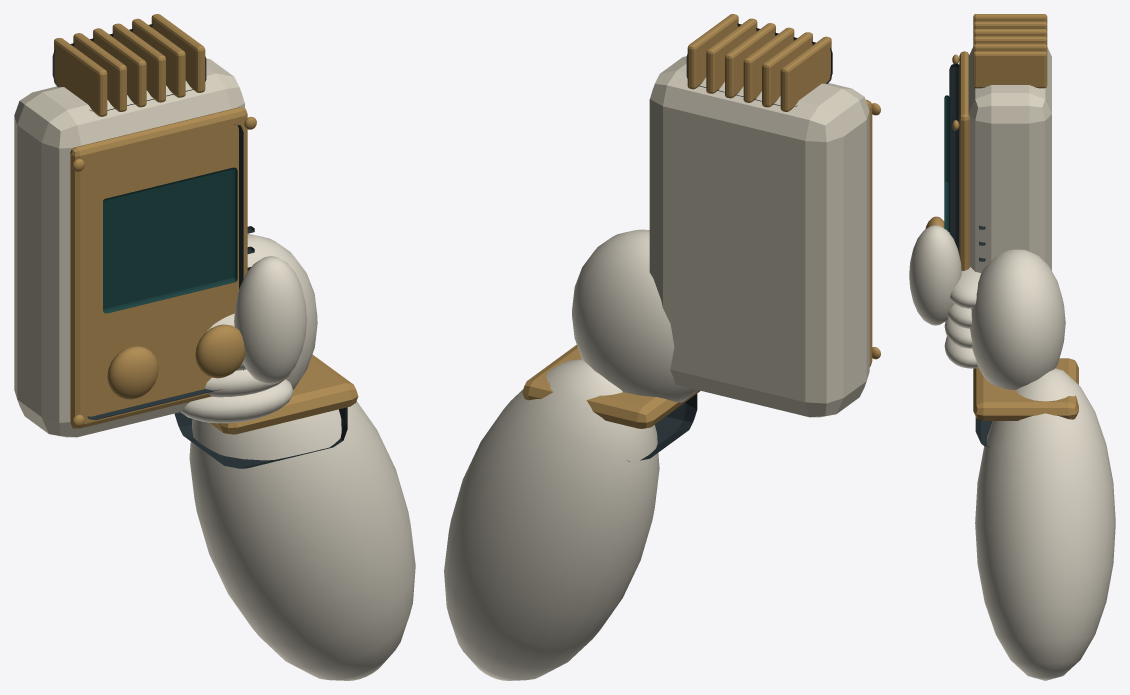
The model's file is surface-dosimeter.glb.
3 views of the same model, side by side, from view 1: azimuth 30°, elevation 25°; view 2: azimuth 150°, elevation 25°; view 3: azimuth 270°, elevation 25° (orthographic). The views are drawn at different scales.
Visible parts, largest first — view 1: H01 batch 04 / Dosimeter / pressure glove fabric, H01 batch 01 / Dosimeter / bronze fittings, H01 batch 00 / Dosimeter / ceramic, H01 batch 03 / Dosimeter / blank display, H01 batch 02 / Dosimeter / seals; view 2: H01 batch 00 / Dosimeter / ceramic, H01 batch 04 / Dosimeter / pressure glove fabric, H01 batch 01 / Dosimeter / bronze fittings, H01 batch 02 / Dosimeter / seals; view 3: H01 batch 04 / Dosimeter / pressure glove fabric, H01 batch 00 / Dosimeter / ceramic, H01 batch 01 / Dosimeter / bronze fittings, H01 batch 02 / Dosimeter / seals, H01 batch 03 / Dosimeter / blank display.
Boxes of the visible parts, x1,y1,x2,y2 form: H01 batch 04 / Dosimeter / pressure glove fabric: [180, 234, 415, 680]; H01 batch 01 / Dosimeter / bronze fittings: [54, 14, 358, 434]; H01 batch 00 / Dosimeter / ceramic: [14, 58, 244, 437]; H01 batch 03 / Dosimeter / blank display: [103, 167, 237, 313]; H01 batch 02 / Dosimeter / seals: [52, 24, 347, 468]; H01 batch 00 / Dosimeter / ceramic: [649, 56, 869, 417]; H01 batch 04 / Dosimeter / pressure glove fabric: [444, 229, 698, 680]; H01 batch 01 / Dosimeter / bronze fittings: [522, 14, 880, 428]; H01 batch 02 / Dosimeter / seals: [627, 23, 832, 461]; H01 batch 04 / Dosimeter / pressure glove fabric: [909, 225, 1115, 680]; H01 batch 00 / Dosimeter / ceramic: [968, 47, 1051, 273]; H01 batch 01 / Dosimeter / bronze fittings: [925, 14, 1078, 420]; H01 batch 02 / Dosimeter / seals: [949, 63, 1036, 447]; H01 batch 03 / Dosimeter / blank display: [944, 95, 949, 231].
Size of the model in its own units: 0.4082 by 0.693 by 0.235.
